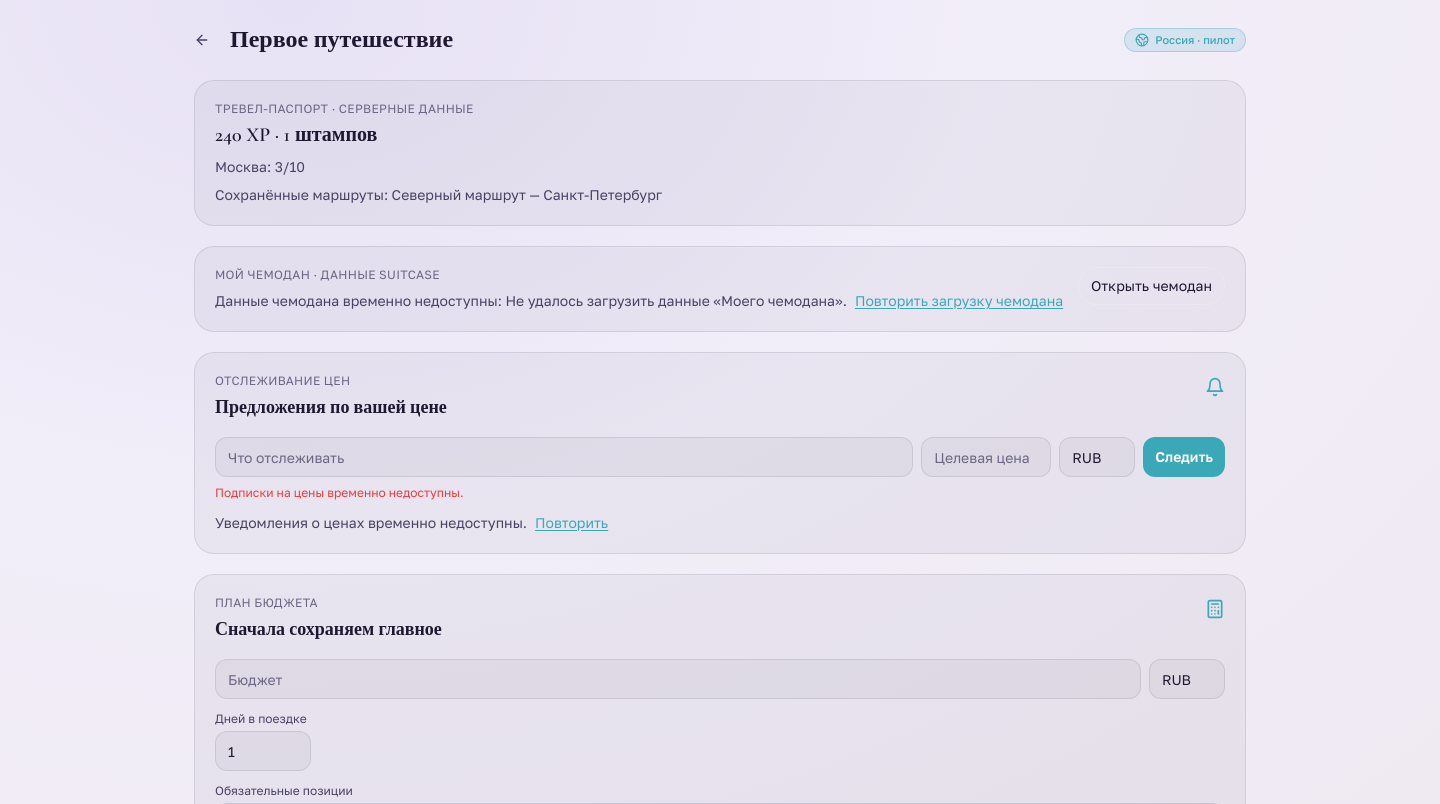
LiveGamePanel Suitcase summary › retries Suitcase independently and recovers without refetching the passport
Expected: the text "Данные чемодана временно недоступны" is shown, [215,292,847,309]
Click the button "Повторить загрузку чемодана".
click(959, 301)  # box [855,291,1063,311]
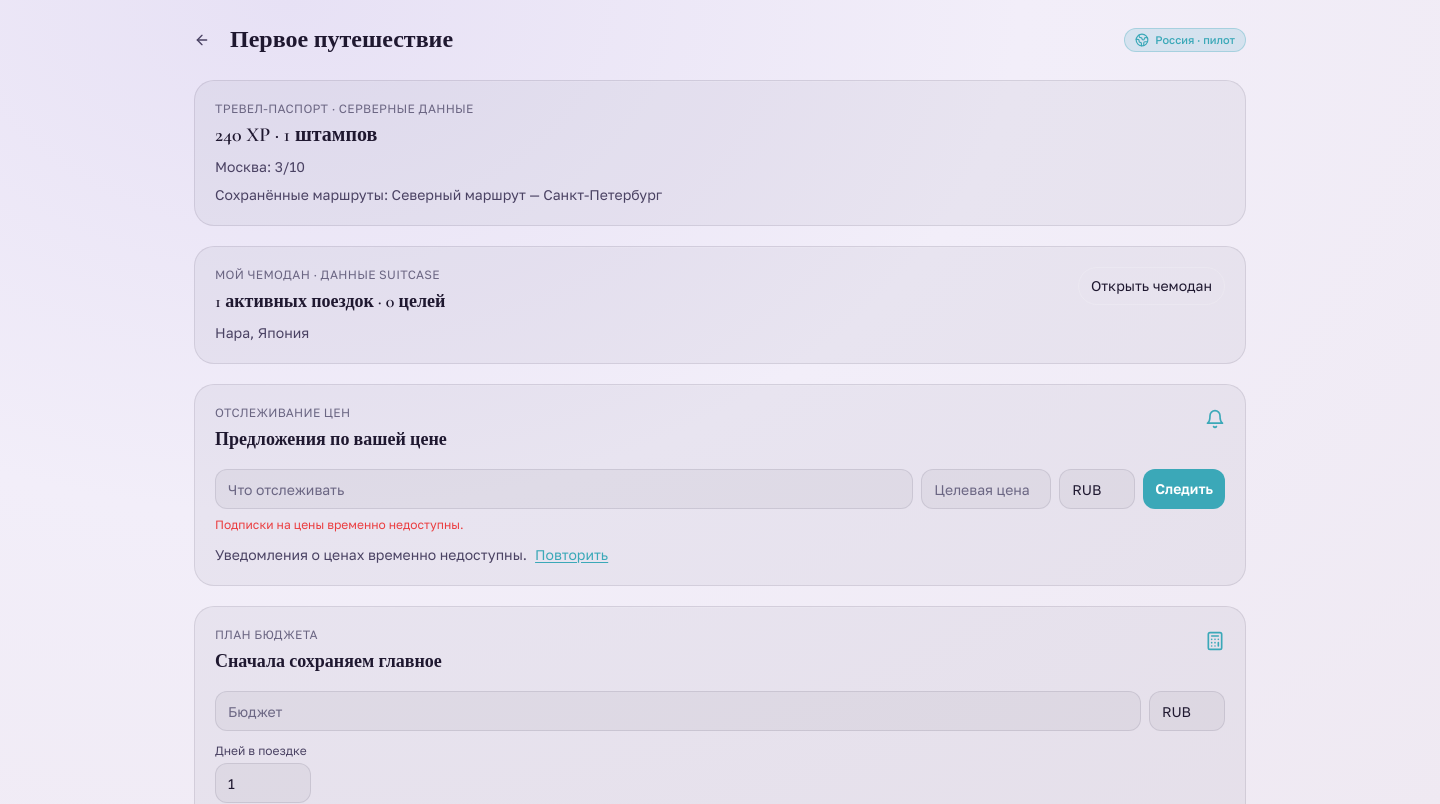
Expected: the text "1 активных поездок · 0 целей" is shown, [215,287,445,315]
Expected: the text "Нара, Япония" is shown, [215,324,309,341]
